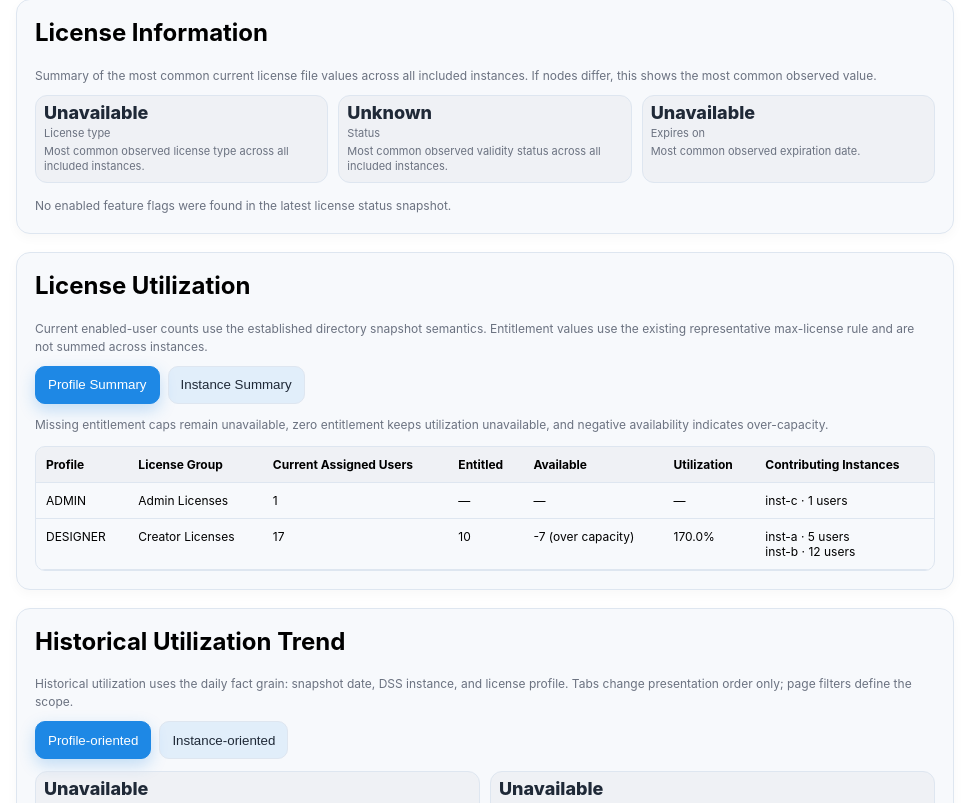
Scenario: License utilization fact UI › instance summary provides paged access over all page-filtered rows
Click the button "Instance Summary" at coordinates (236, 384), box x1=168 y1=366 x2=305 y2=404
(page scrolled)
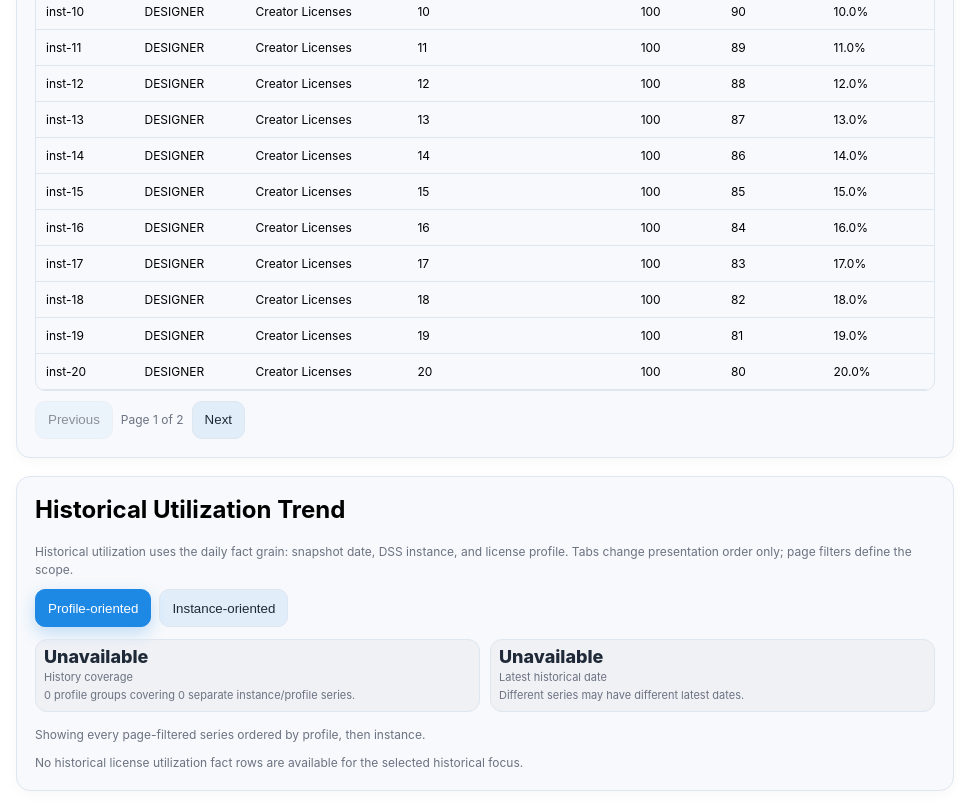
expect the text "inst-21" is not shown: met
expect the text "Page 1 of 2" is shown: met, box x1=121 y1=410 x2=184 y2=428
Click the button "Next" at coordinates (218, 420), box x1=192 y1=400 x2=245 y2=438
(page scrolled)
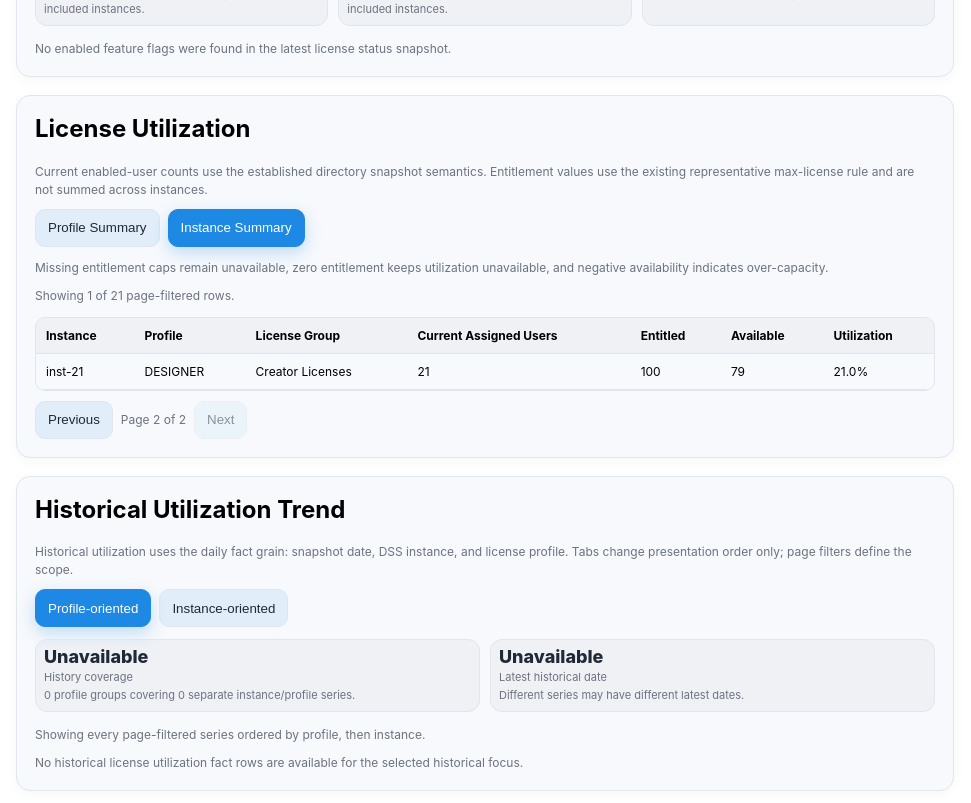
expect the text "inst-21" is shown: met, box x1=36 y1=353 x2=134 y2=389
